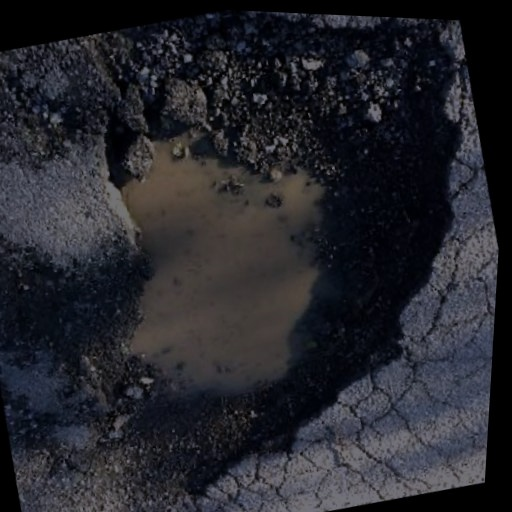pothole: (8, 2, 512, 512)
